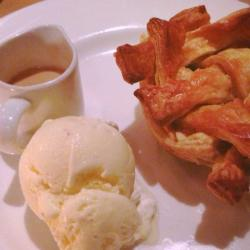apple_pie: (124, 8, 250, 176)
icecream: (20, 112, 152, 243)
